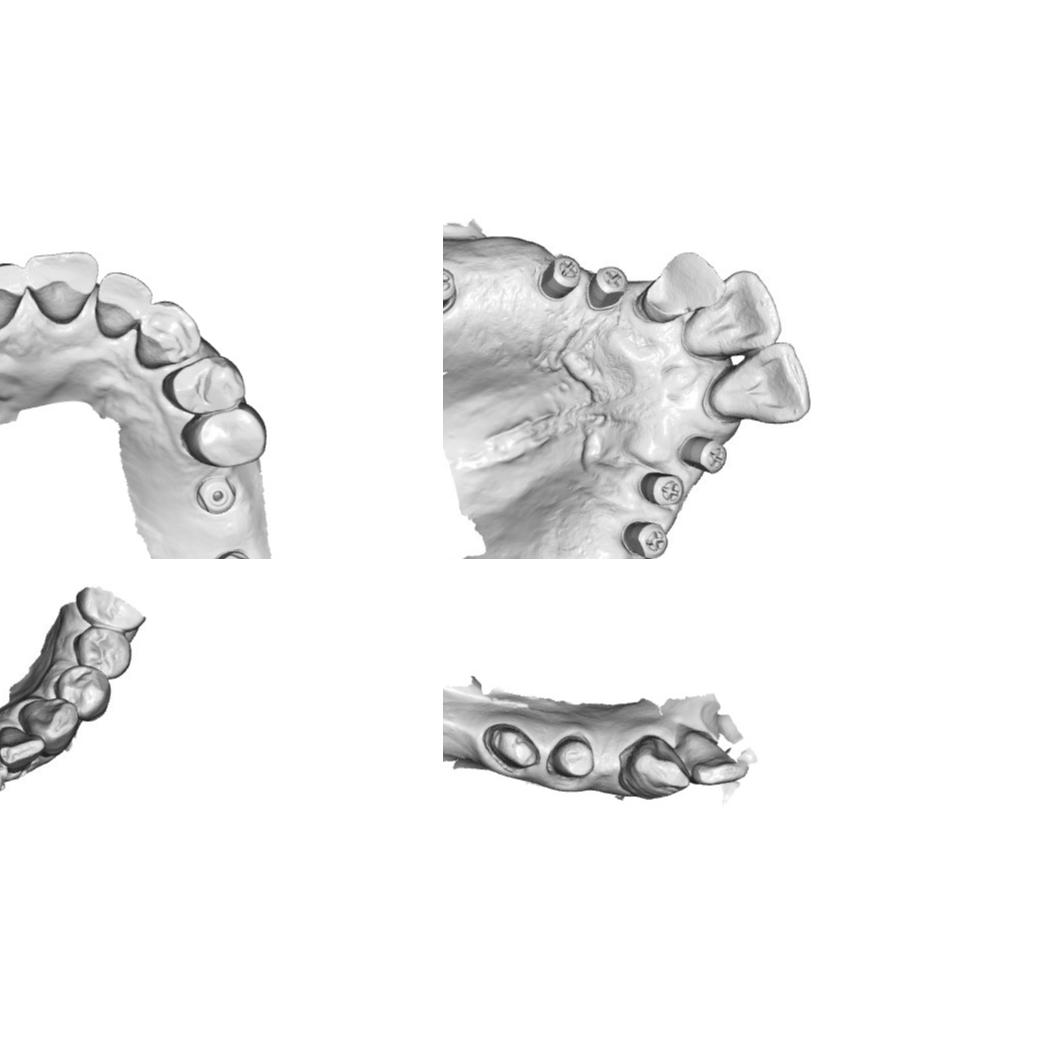canine: (616, 732, 690, 802), (134, 298, 203, 369), (20, 696, 81, 752)
crown: (478, 718, 543, 776), (545, 730, 599, 787)
implant: (196, 470, 235, 516), (211, 544, 256, 559)
implant_plus: (578, 260, 631, 314), (538, 248, 585, 302), (635, 464, 685, 512), (623, 514, 670, 559), (679, 432, 726, 474), (443, 264, 459, 319)
incisor: (685, 272, 784, 351), (706, 347, 808, 421), (23, 247, 99, 326), (649, 253, 721, 320), (91, 267, 157, 340), (678, 727, 748, 788), (0, 724, 42, 772), (0, 260, 25, 333), (0, 739, 11, 793)
premolar: (181, 408, 265, 469), (161, 354, 246, 413), (71, 619, 132, 683), (55, 663, 114, 722)
